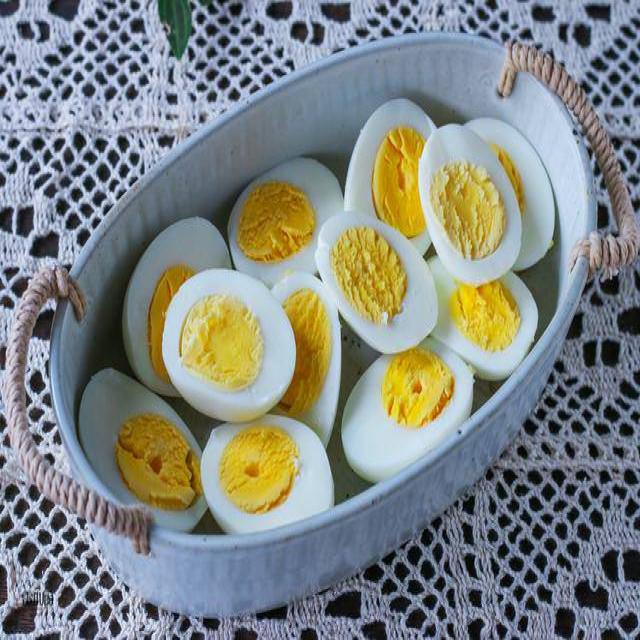trung luoc: (79, 369, 206, 529), (162, 270, 295, 420), (123, 217, 230, 397), (341, 340, 474, 481), (315, 210, 438, 354), (419, 126, 522, 285), (201, 415, 333, 532), (228, 157, 342, 283), (345, 100, 435, 253), (465, 120, 555, 270), (429, 258, 538, 379), (271, 273, 340, 447)
